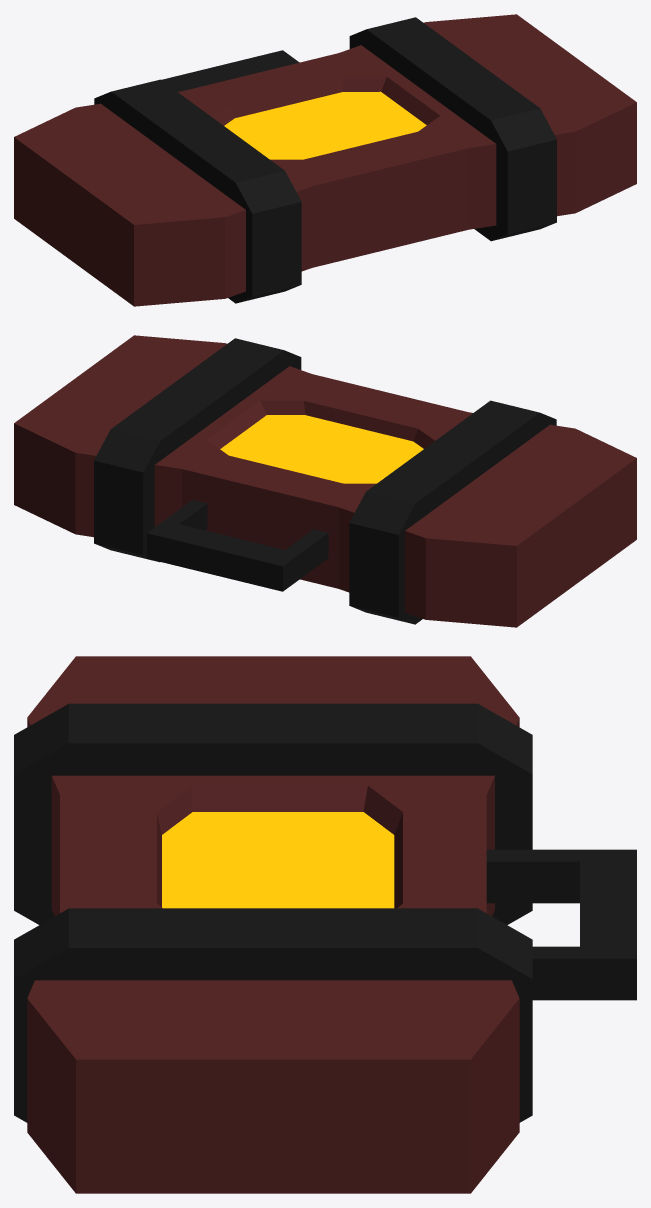
Rendered from ToolKitModel.glb.
3 views of the same model, one above another, from view 1: azimuth 30°, elevation 25°; view 2: azimuth 150°, elevation 25°; view 3: azimuth 270°, elevation 25° (orthographic). The views are drawn at different scales.
Visible parts, largest first — view 1: Toolbox, Strut2, Strut1, Handle; view 2: Toolbox, Strut2, Strut1, Handle; view 3: Toolbox, Strut1, Strut2, Handle.
Boxes of the visible parts, x1=… form: Toolbox: x1=14, y1=14, x2=636, y2=306; Strut2: x1=349, y1=17, x2=556, y2=241; Strut1: x1=94, y1=79, x2=301, y2=303; Handle: x1=161, y1=50, x2=299, y2=91; Toolbox: x1=14, y1=335, x2=636, y2=627; Strut2: x1=94, y1=338, x2=301, y2=562; Strut1: x1=349, y1=400, x2=556, y2=624; Handle: x1=147, y1=499, x2=328, y2=591; Toolbox: x1=27, y1=656, x2=519, y2=1193; Strut1: x1=14, y1=703, x2=532, y2=924; Strut2: x1=14, y1=908, x2=532, y2=1122; Handle: x1=486, y1=849, x2=636, y2=1000.
Size of the model in its own units: 3.94 by 0.9053 by 2.57.
